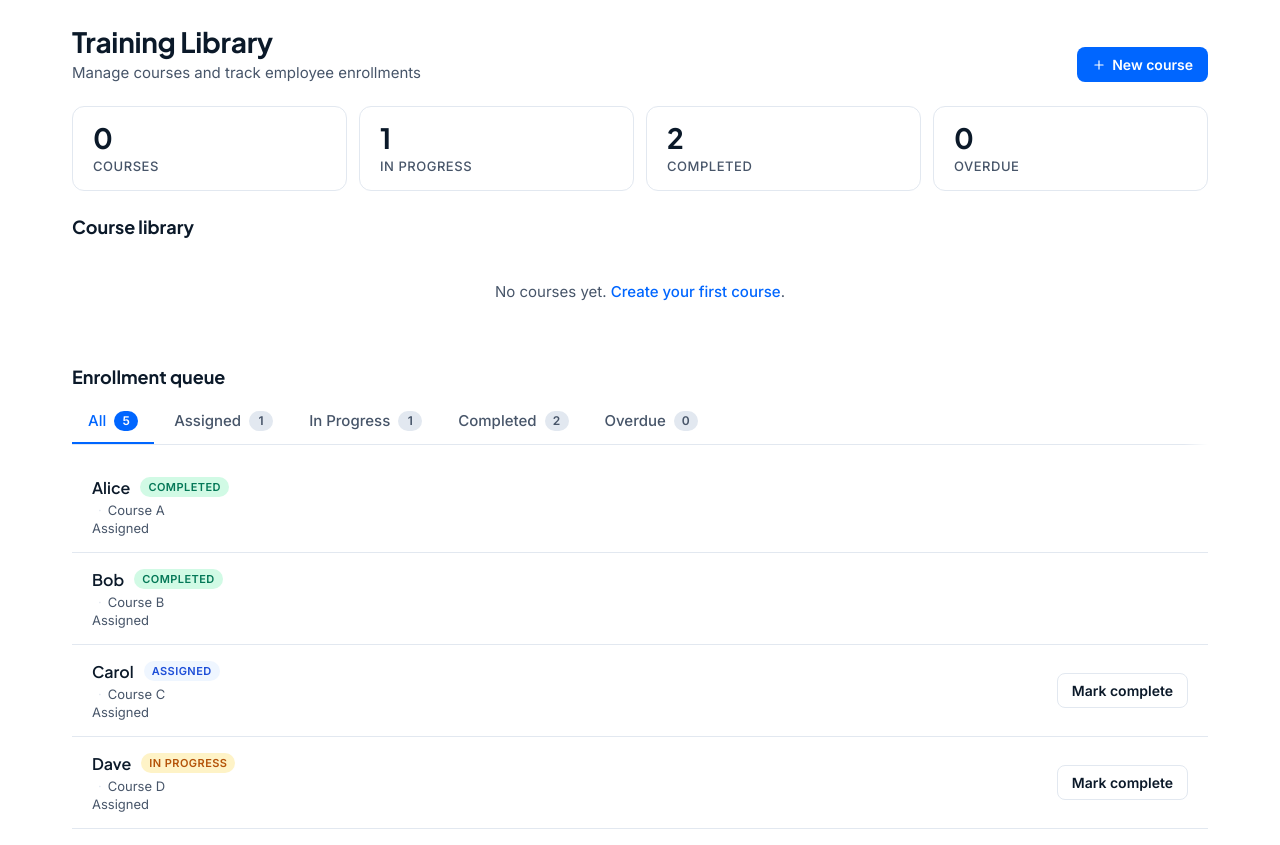
Test case: DR-005 — TrainingDashboard real-mount: Completed filter narrows correctly › 8. the Completed tab renders ONLY terminal rows (no Mark-complete buttons)
This screenshot has width=1280, height=845.
Click the tab "Completed 2" at (513, 422), box 442,400 -> 584,444
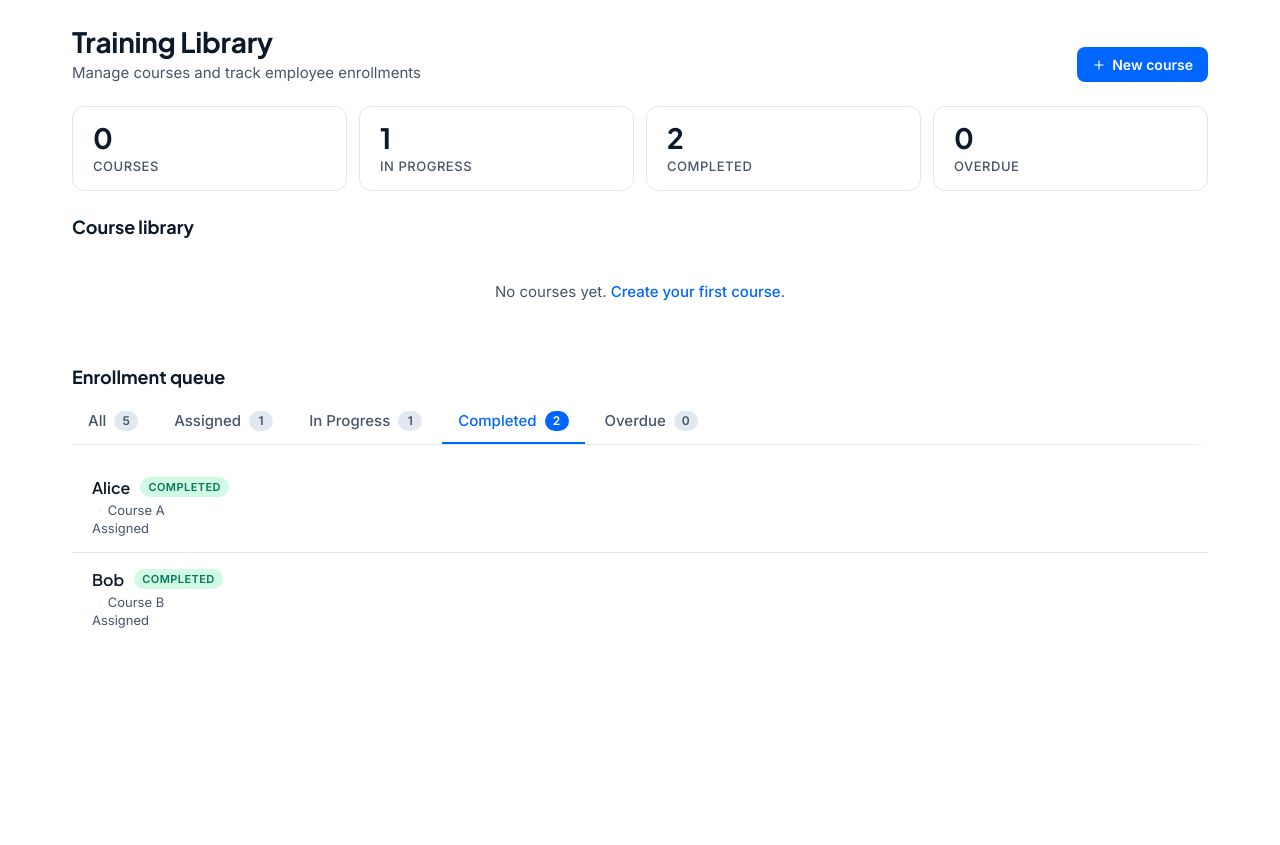
Check: the heading "Alice" is shown, box 92,477 -> 130,498
Check: the heading "Carol" is gone
Check: the heading "Dave" is gone
